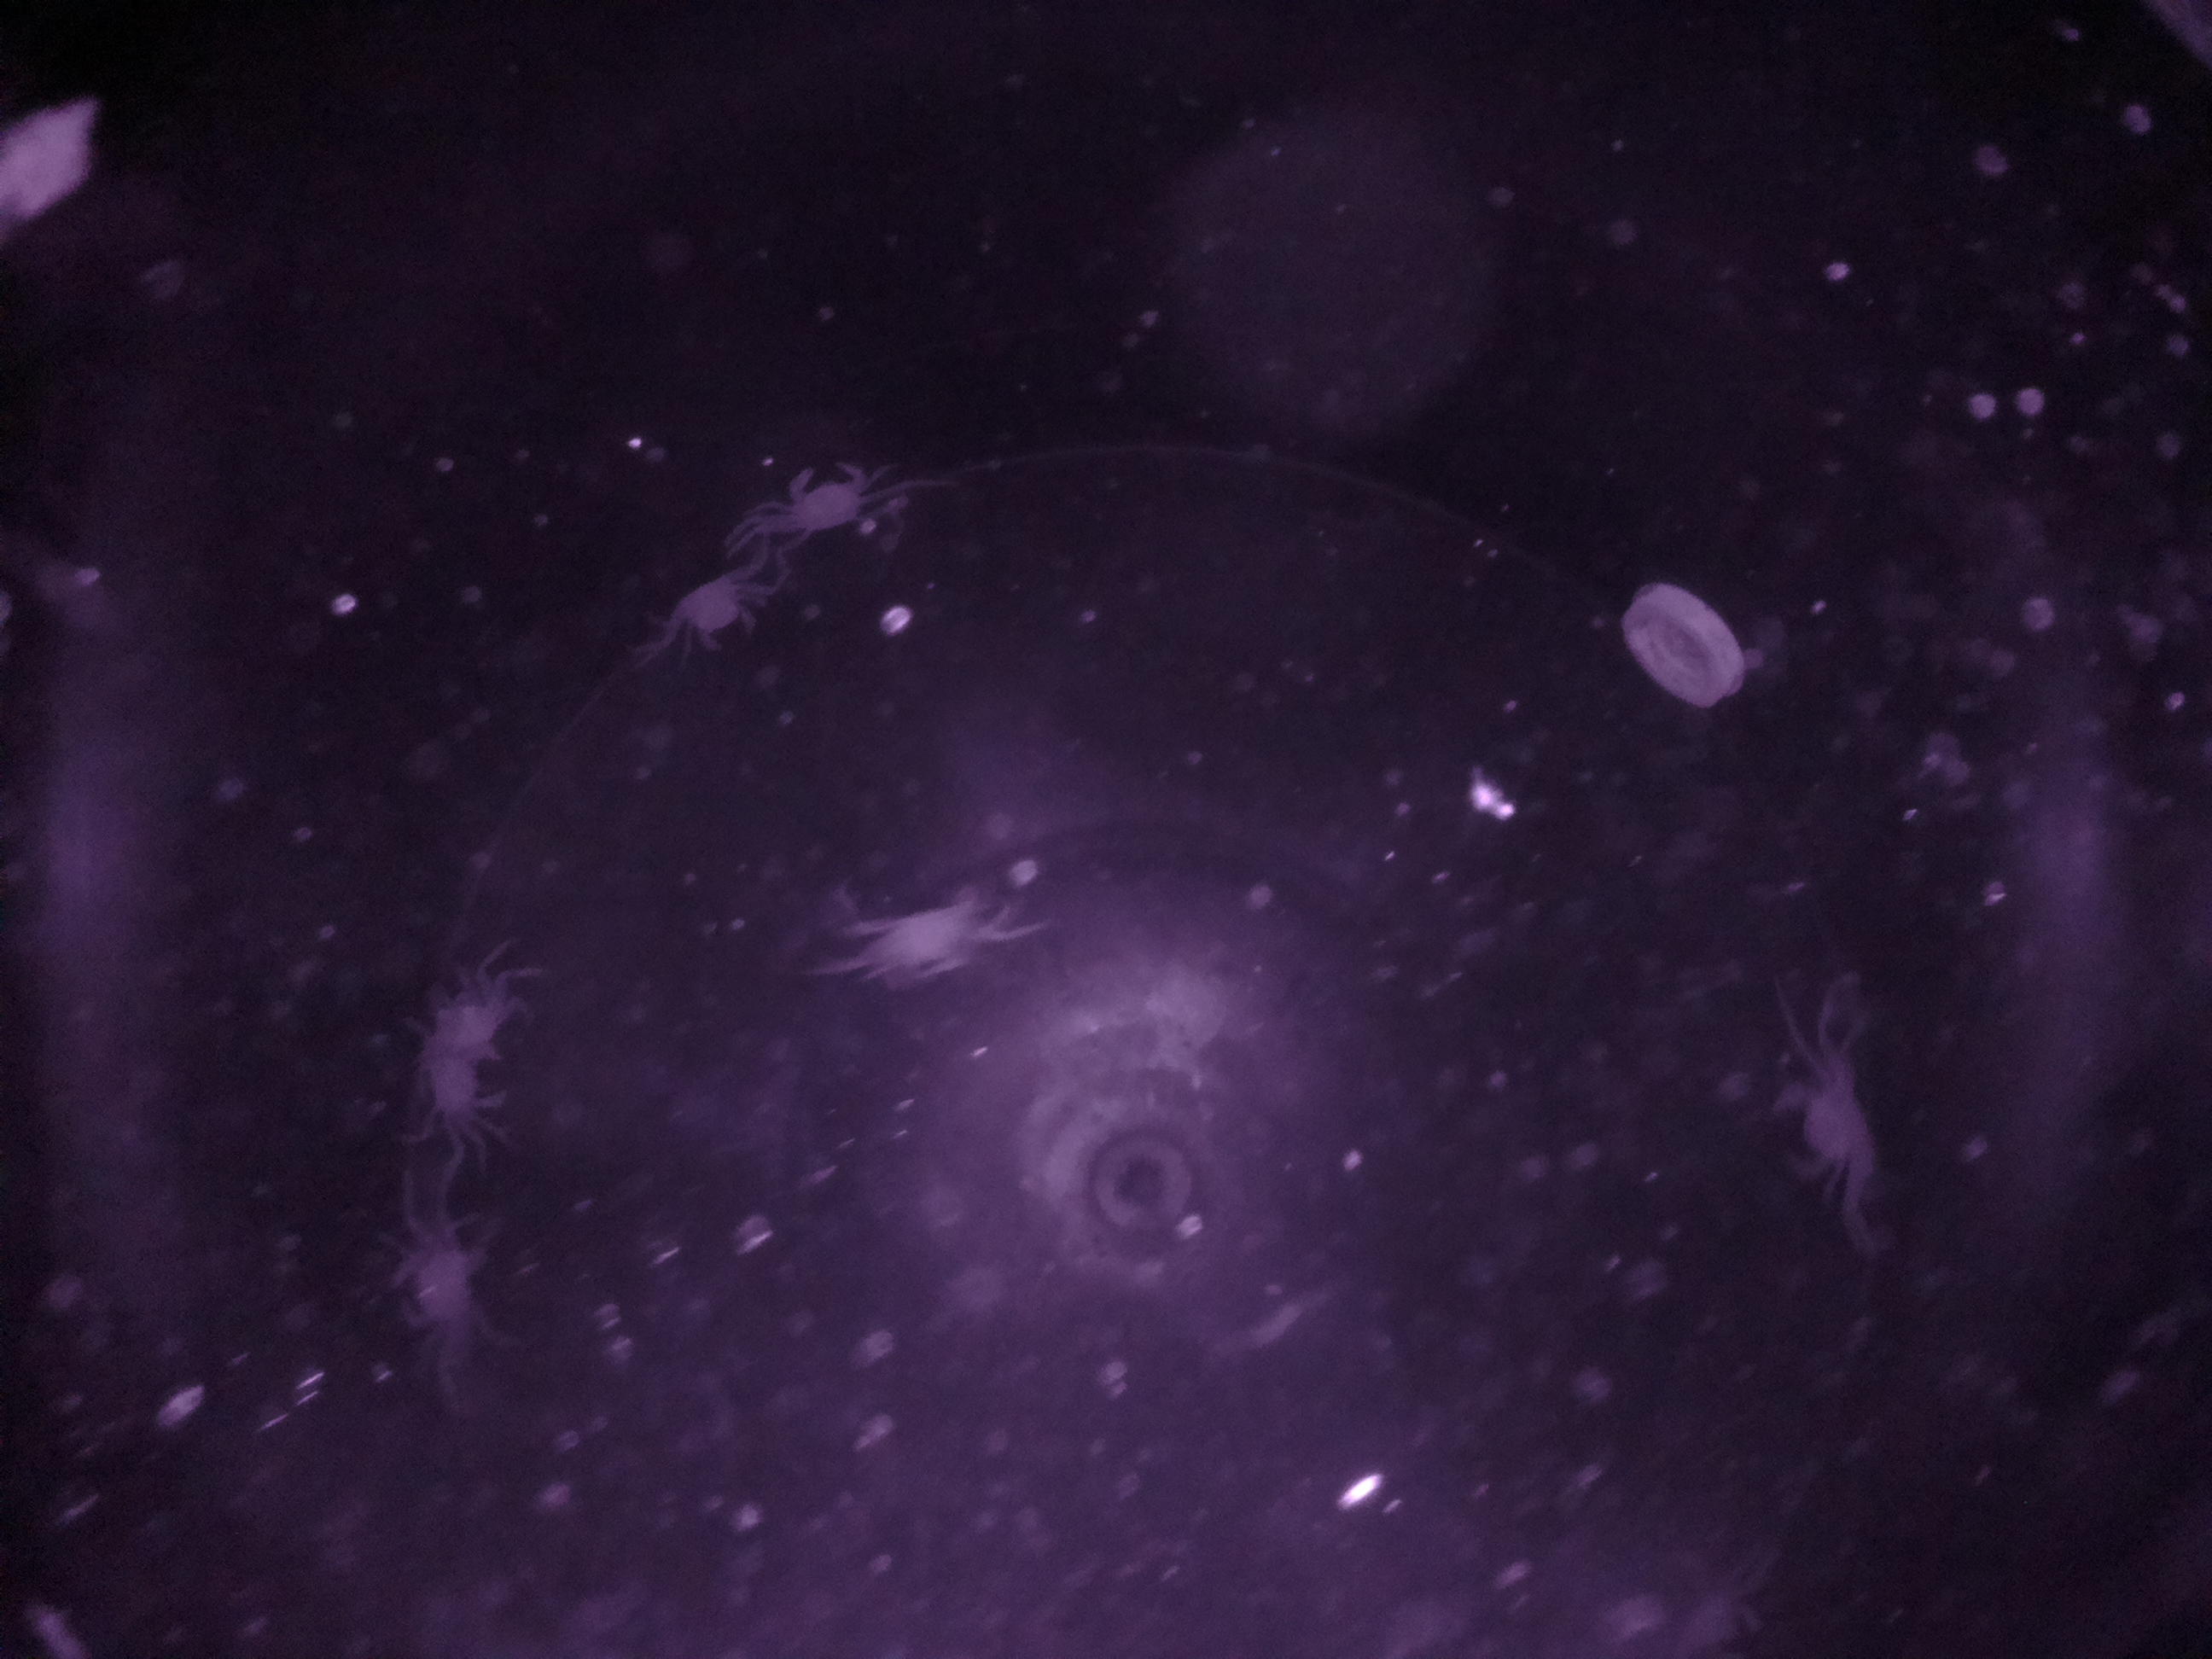Crab: (1764, 1056, 1914, 1192), (763, 439, 899, 559), (658, 558, 791, 671)
